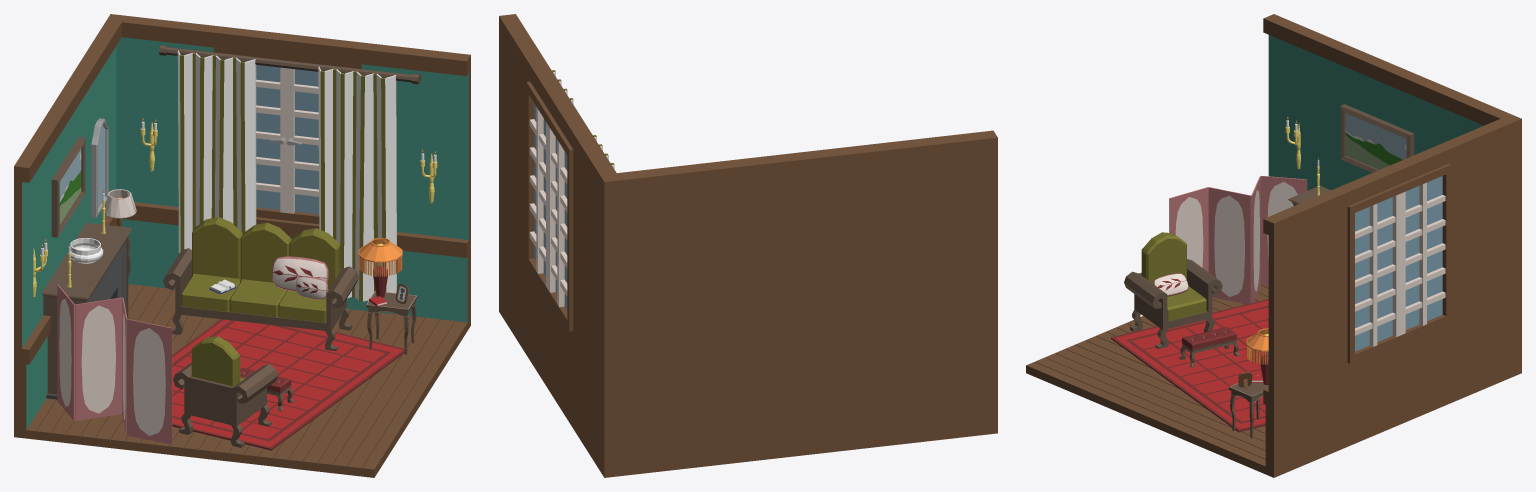
File: Room_1_Living_room.fbx
3 views of the same model, side by side, from view 1: azimuth 30°, elevation 25°; view 2: azimuth 150°, elevation 25°; view 3: azimuth 270°, elevation 25° (orthographic). The views are drawn at different scales.
Visible parts, largest first — view 1: Room_1_Base_1, Room_1_Curtains, Room_1_Parquet, Room_1_Couch, Room_1_Partition, Room_1_Carpet, Room_1_Base_2, Room_1_Window_1, Room_1_Armchair, Room_1_Fireplace, Room_1_Painting, Room_1_Lamp_2 (+7 smaller); view 2: Room_1_Base_1, Room_1_Window_1; view 3: Room_1_Base_1, Room_1_Window_1, Room_1_Parquet, Room_1_Partition, Room_1_Carpet, Room_1_Armchair, Room_1_Painting, Room_1_Ottoman, Room_1_Table_1, Room_1_Lamp_2, Room_1_Pillow_2.
Boxes of the visible parts, x1,y1,x2,y2 form: Room_1_Base_1: [14, 14, 470, 477]; Room_1_Curtains: [159, 45, 421, 301]; Room_1_Parquet: [22, 284, 468, 470]; Room_1_Couch: [163, 217, 358, 350]; Room_1_Partition: [57, 284, 172, 444]; Room_1_Carpet: [122, 319, 407, 450]; Room_1_Base_2: [22, 202, 468, 429]; Room_1_Window_1: [213, 47, 361, 224]; Room_1_Armchair: [173, 336, 278, 447]; Room_1_Fireplace: [42, 223, 131, 400]; Room_1_Painting: [51, 137, 85, 237]; Room_1_Lamp_2: [358, 238, 402, 297]; Room_1_Base_1: [499, 14, 997, 477]; Room_1_Window_1: [526, 81, 573, 331]; Room_1_Base_1: [1026, 14, 1521, 477]; Room_1_Window_1: [1347, 163, 1451, 363]; Room_1_Parquet: [1026, 285, 1268, 468]; Room_1_Partition: [1169, 175, 1307, 304]; Room_1_Carpet: [1111, 299, 1268, 432]; Room_1_Armchair: [1124, 232, 1222, 348]; Room_1_Painting: [1340, 104, 1414, 172]; Room_1_Ottoman: [1178, 327, 1240, 367]; Room_1_Table_1: [1229, 374, 1268, 438]; Room_1_Lamp_2: [1246, 328, 1268, 384]; Room_1_Pillow_2: [1153, 273, 1188, 296].
Bounding box in the file's own units: 707 × 707 × 401.
